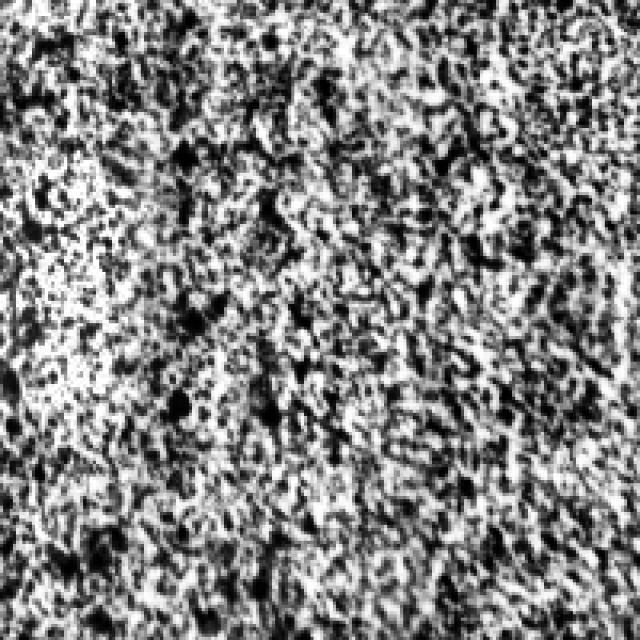Rolled_in_Scale: (9, 6, 634, 628)
